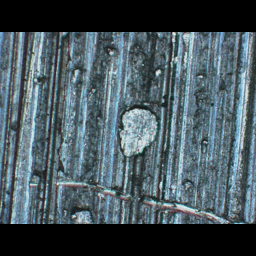d: (28, 173, 237, 223), (116, 101, 162, 161)
